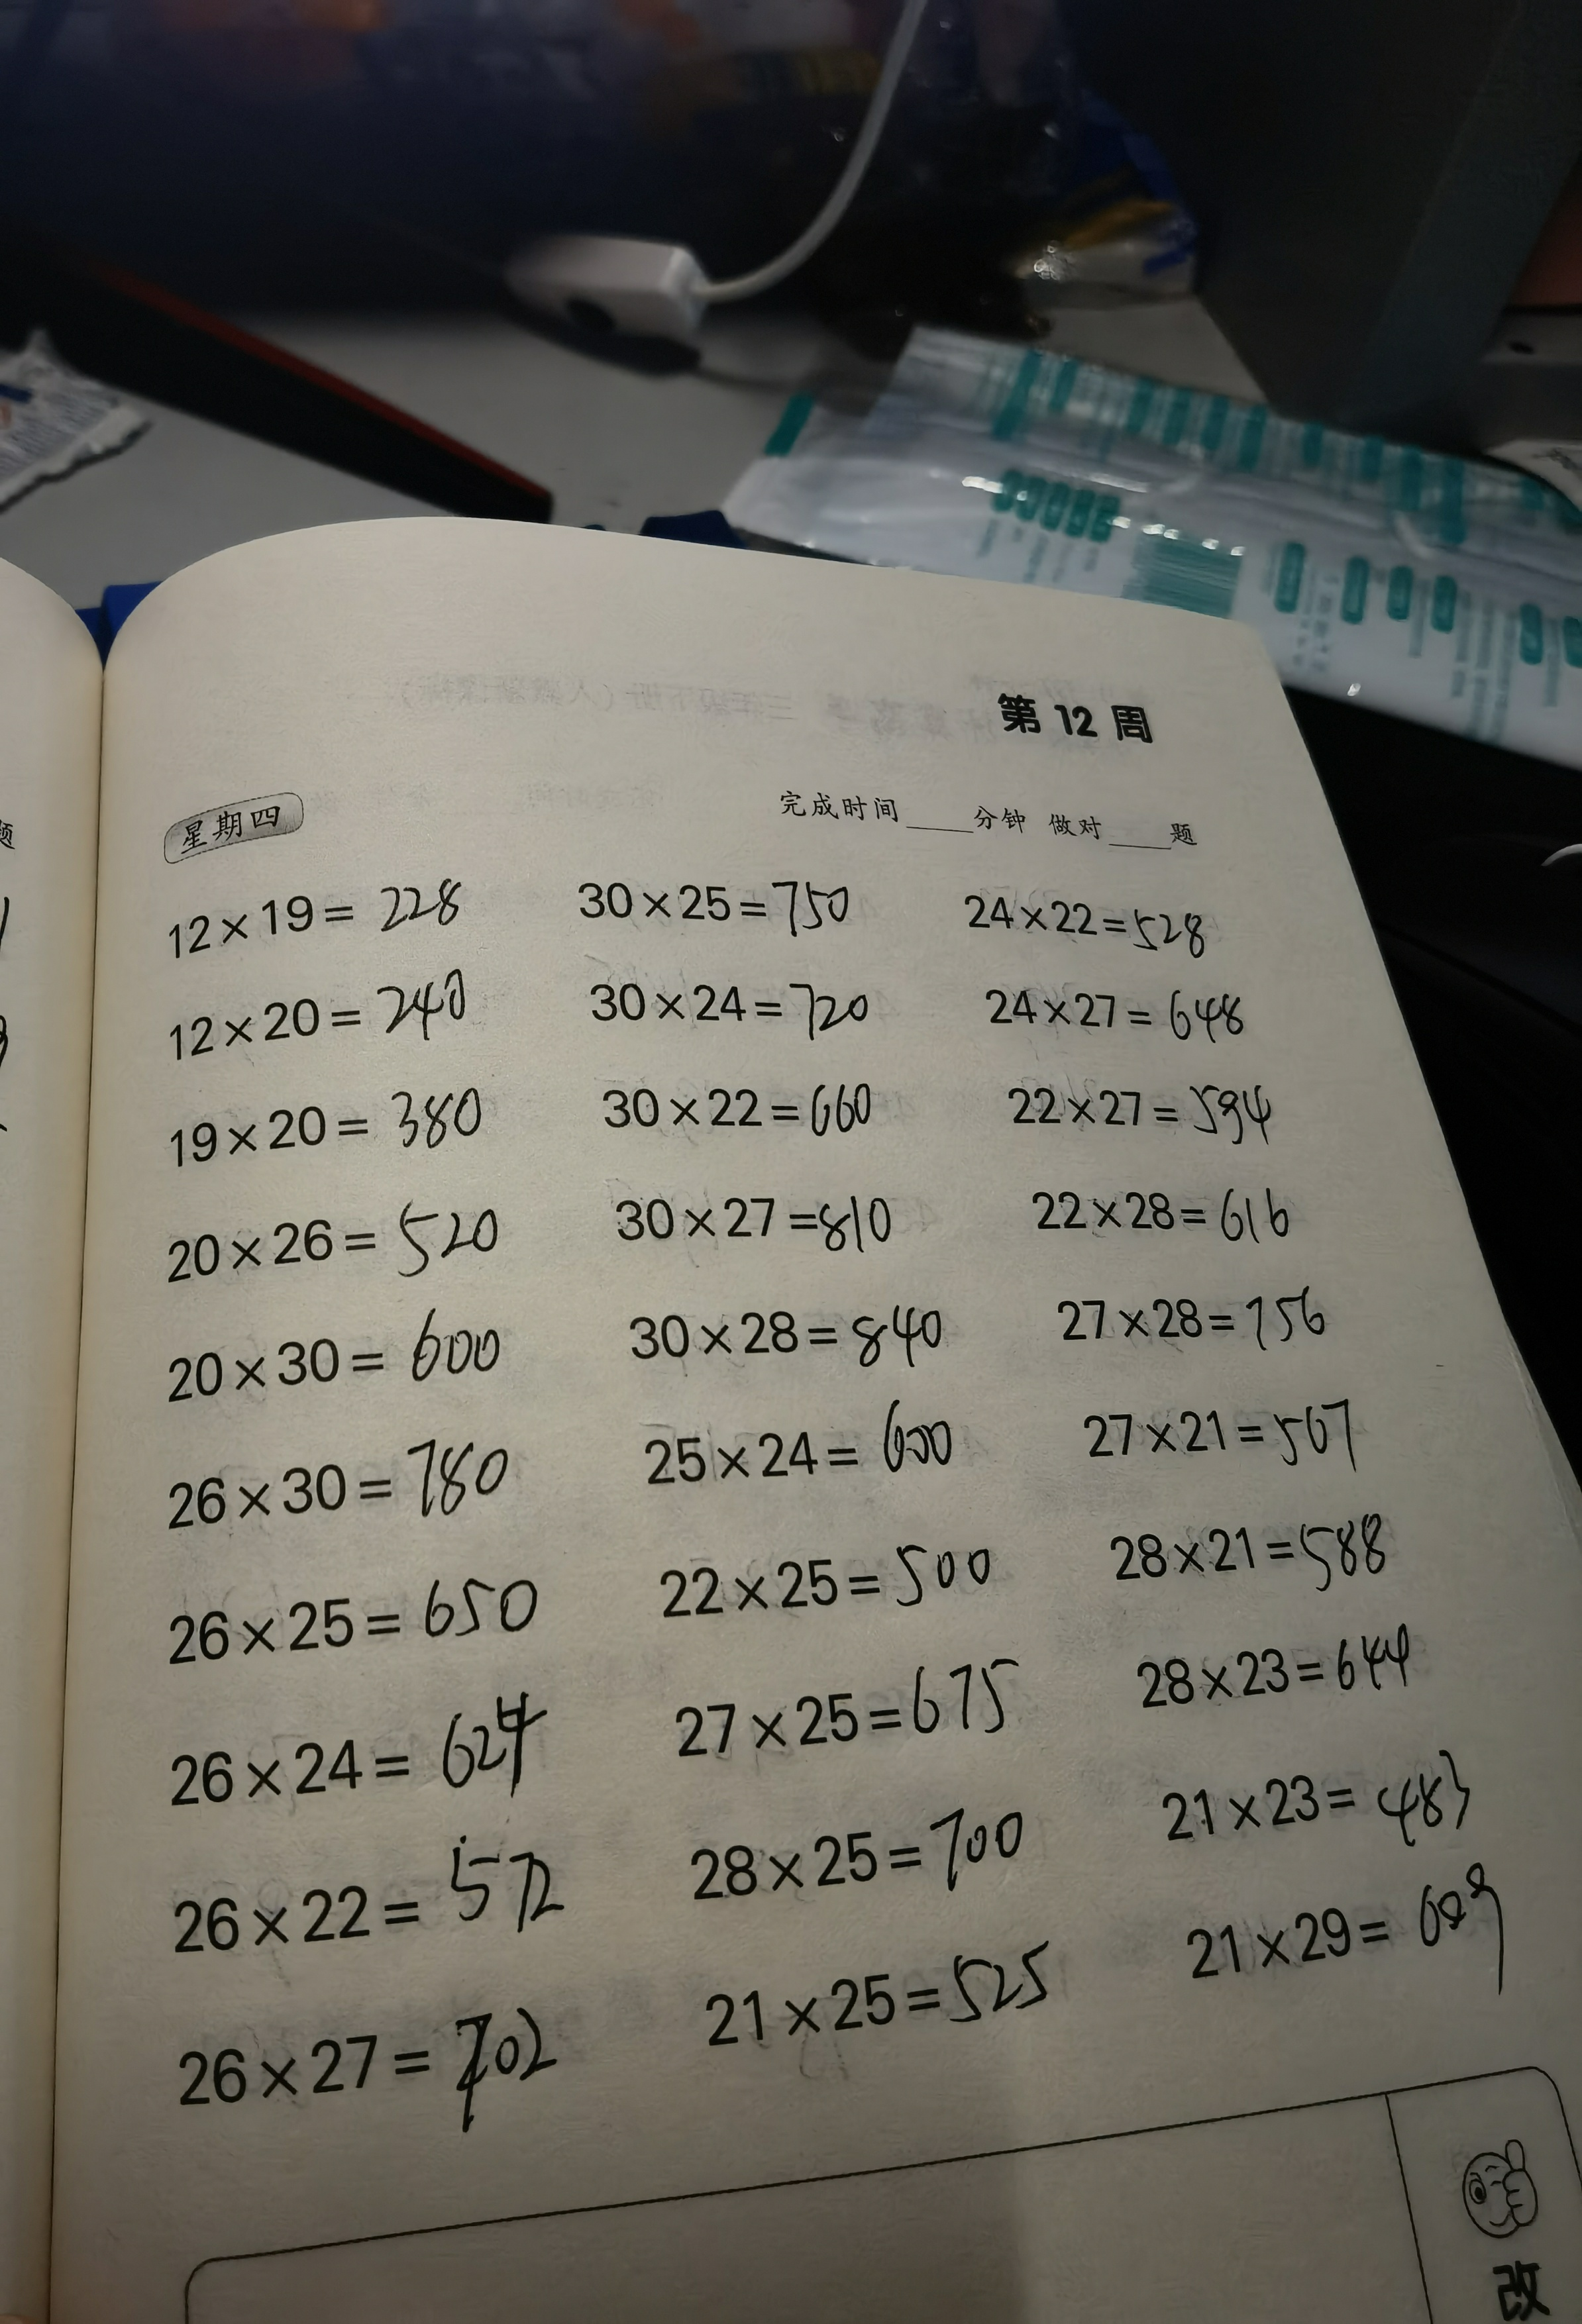equation: (652, 1913, 1077, 2075), (138, 1994, 588, 2142), (132, 1833, 599, 1959), (141, 1687, 549, 1821), (639, 1782, 1038, 1899), (1156, 1863, 1531, 1987), (620, 1394, 1033, 1502), (657, 1650, 1035, 1761), (1088, 1613, 1439, 1726), (134, 1438, 510, 1542), (132, 1184, 496, 1292), (136, 1308, 503, 1413), (138, 1569, 539, 1662), (1035, 1276, 1379, 1383), (1135, 1740, 1481, 1846), (983, 1059, 1291, 1175), (132, 958, 486, 1059), (591, 1166, 932, 1271), (586, 1050, 923, 1154), (131, 1080, 487, 1177), (637, 1523, 1028, 1611), (546, 851, 874, 955), (1081, 1505, 1439, 1595), (561, 956, 897, 1050), (939, 863, 1264, 958), (1065, 1399, 1393, 1493), (607, 1295, 978, 1373), (132, 865, 478, 946), (1028, 1172, 1312, 1258), (985, 965, 1266, 1046)
